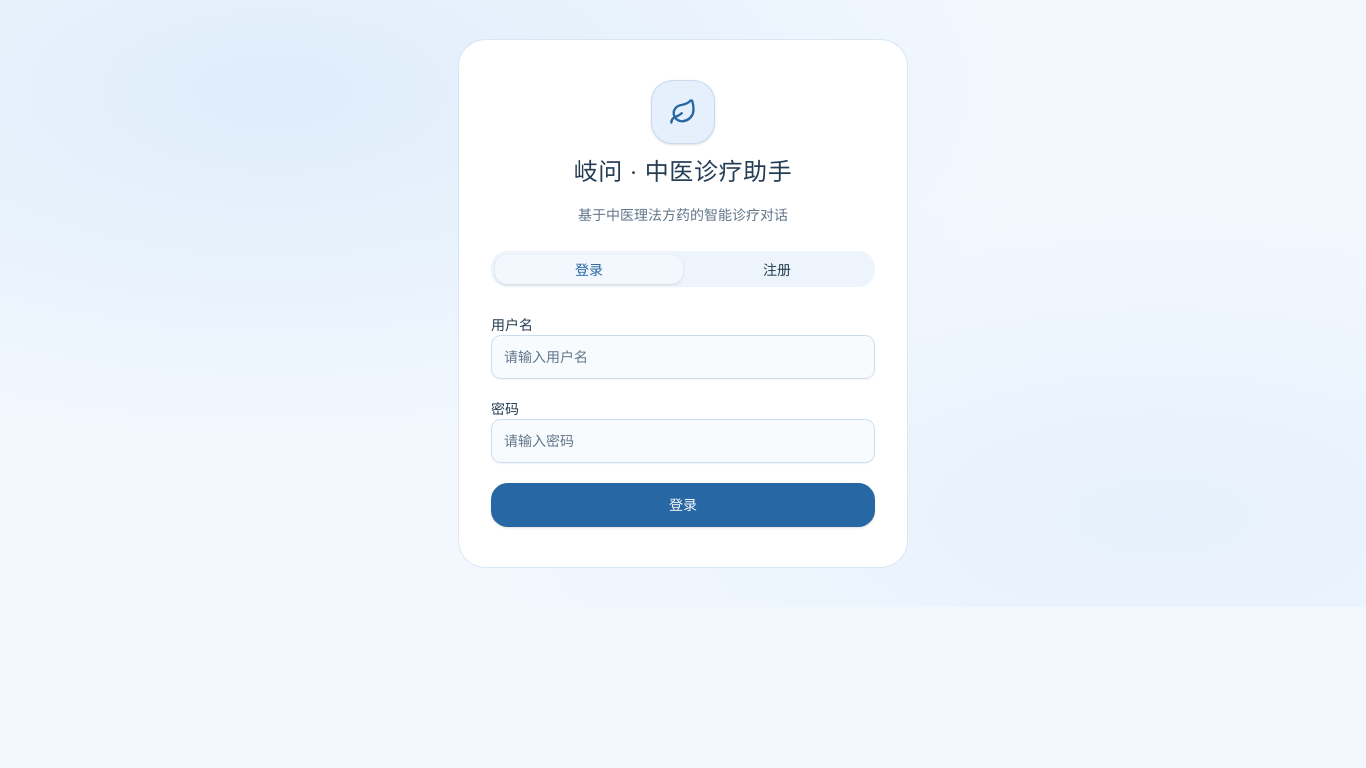
Test: login failure feedback › shows missing credentials and does not send a request
The image size is (1366, 768).
Click the button "登录" at (683, 505), box [491,483,875,527]
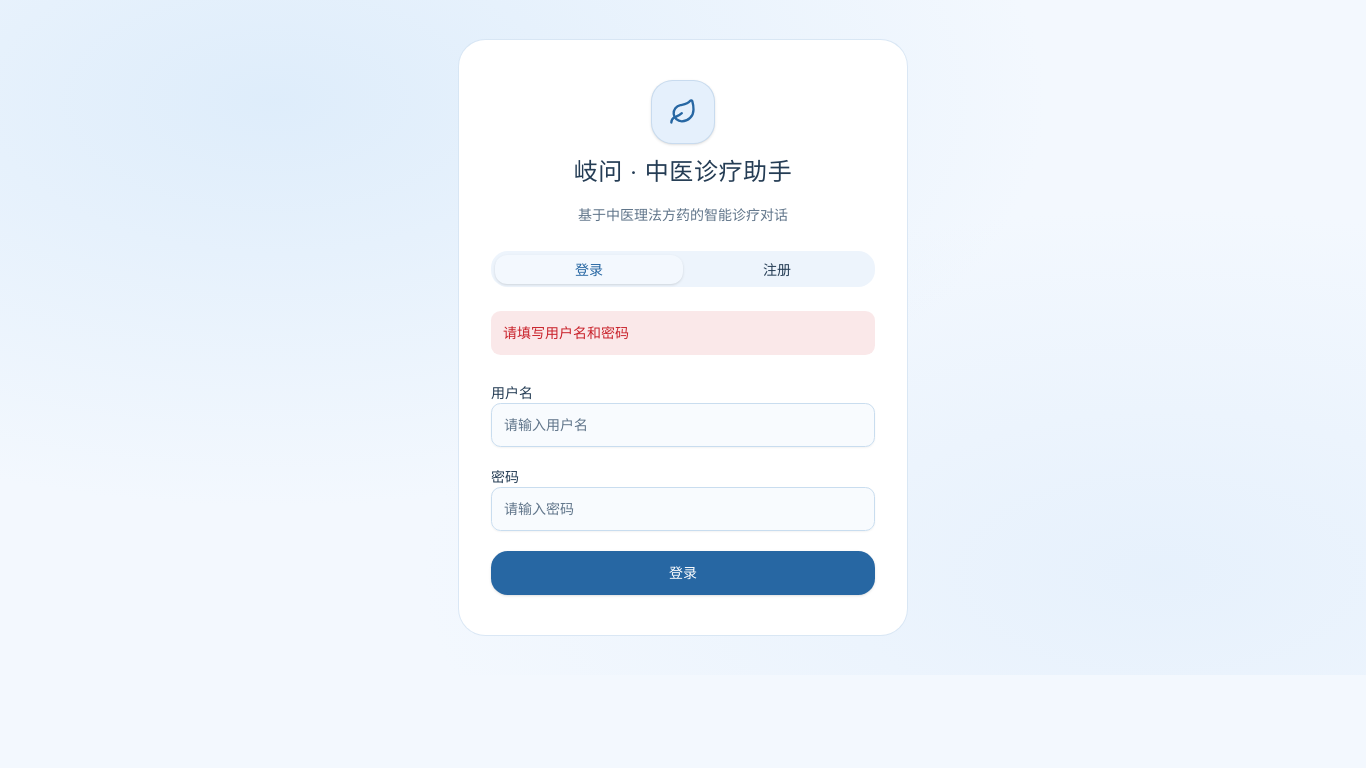
Expected: the message reads "请填写用户名和密码", [503,325,629,341]
